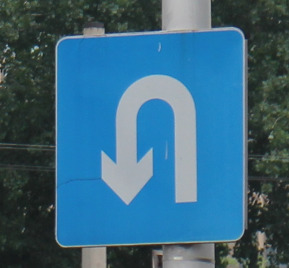u_turn: (54, 28, 247, 248)
